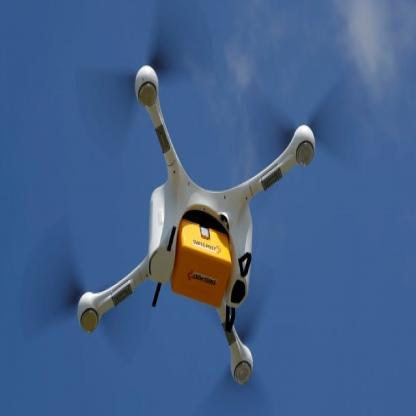drone: (61, 47, 320, 388)
